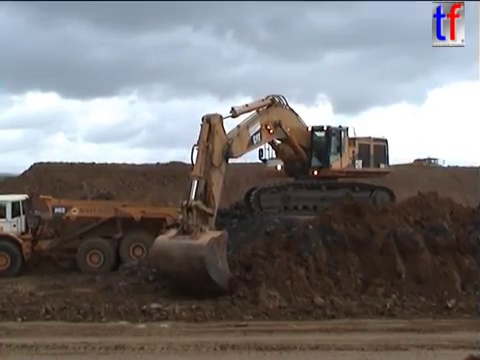excavator: (149, 92, 400, 295)
truck: (1, 192, 196, 280), (382, 155, 447, 181)
